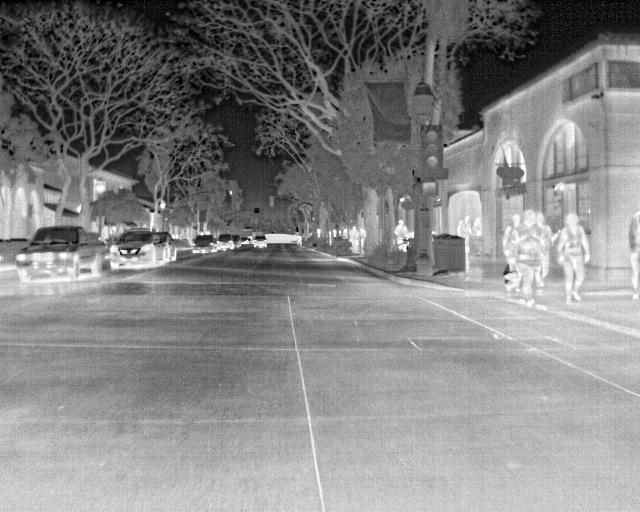bicycle: (13, 225, 106, 283), (109, 232, 158, 268), (156, 232, 178, 265), (191, 236, 215, 254), (216, 234, 236, 252), (249, 234, 268, 250)
empty: (555, 213, 592, 304), (512, 209, 542, 307), (625, 209, 638, 299), (502, 213, 521, 264), (456, 212, 473, 251), (390, 217, 409, 250), (348, 224, 364, 253)
